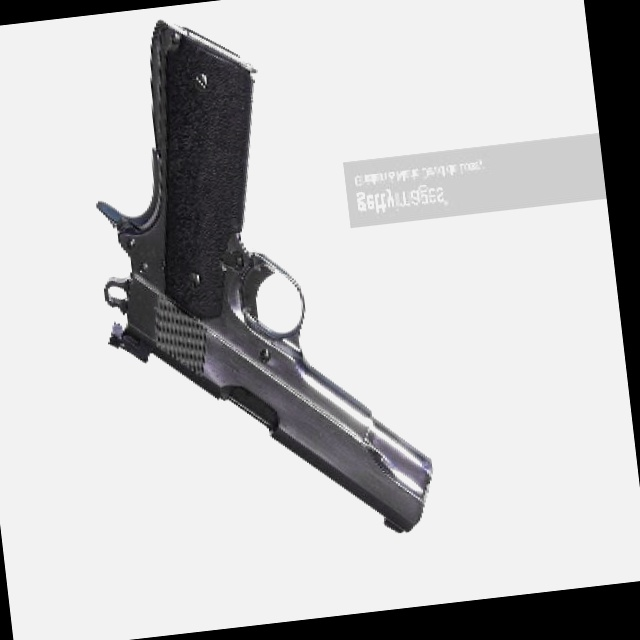gun: (60, 0, 442, 569)
